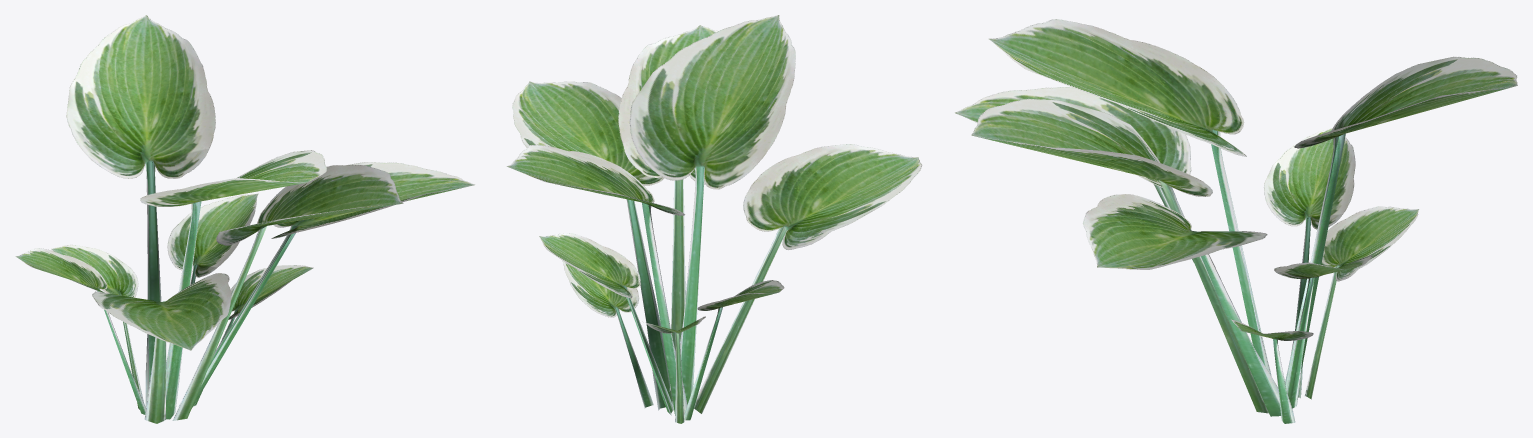
File: plant_small_wg_05U.fbx
3 renders of one model, left to right at view 1: azimuth 30°, elevation 25°; view 2: azimuth 150°, elevation 25°; view 3: azimuth 270°, elevation 25°, orthographic. The views are drawn at different scales.
Visible parts, largest first — view 1: plant_small_wg_05U; view 2: plant_small_wg_05U; view 3: plant_small_wg_05U.
Part boxes in pixels (x1=…): plant_small_wg_05U: x1=15, y1=15, x2=474, y2=423; plant_small_wg_05U: x1=507, y1=15, x2=922, y2=423; plant_small_wg_05U: x1=955, y1=19, x2=1517, y2=423.
Size of the model in its own units: 52.82 by 42.19 by 57.17.
